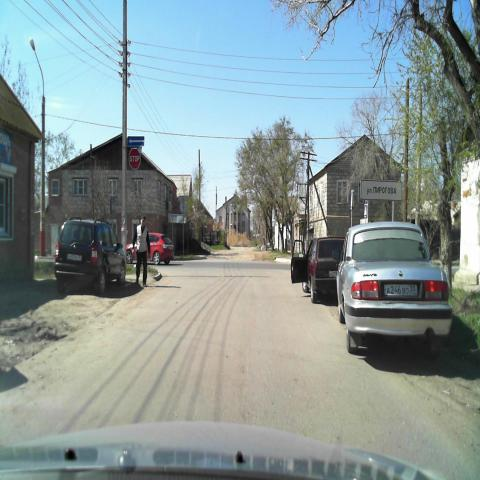5_7_2: (127, 135, 145, 146)
